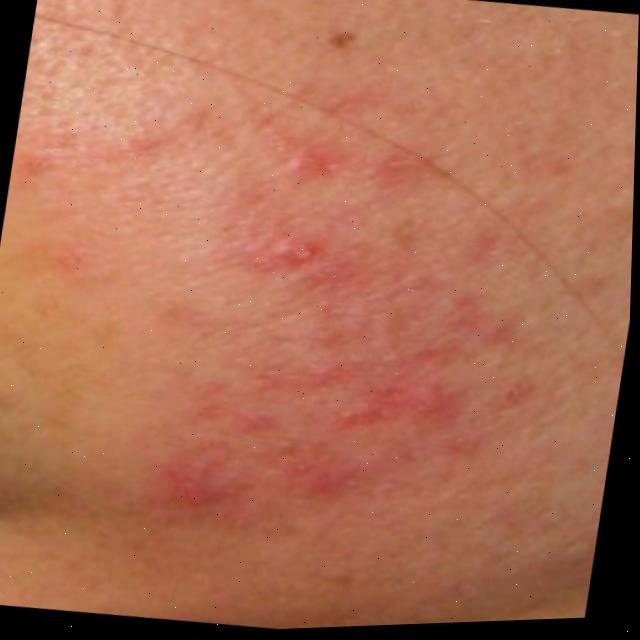Rosacea: (135, 128, 495, 512)
